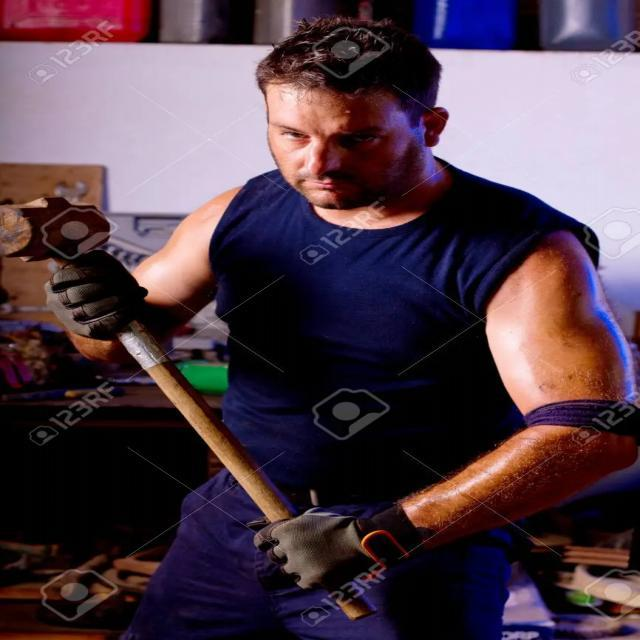hammer: (0, 189, 393, 632)
